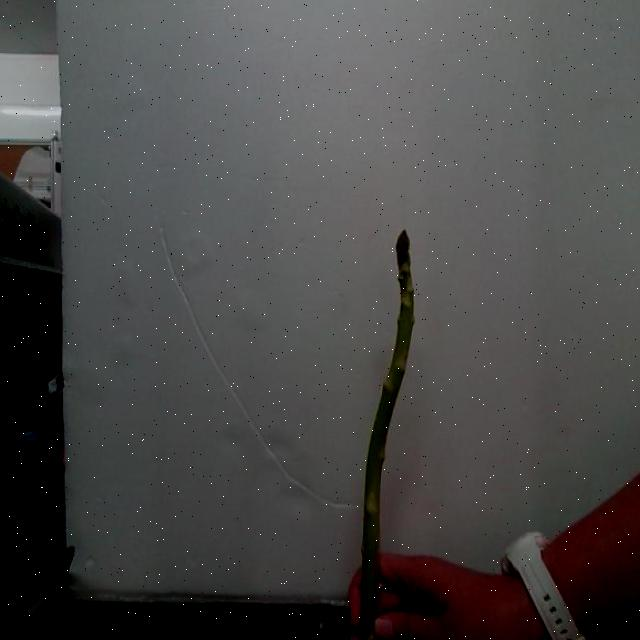aspargus: (358, 232, 416, 640)
